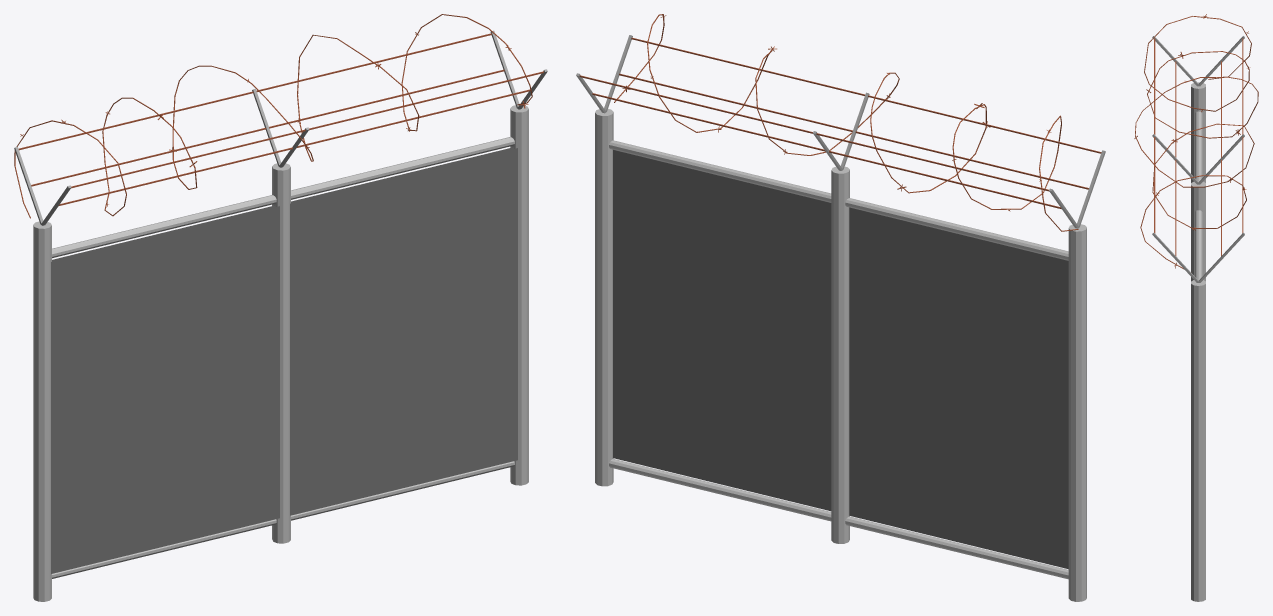
File: BarbedWireFence_middle.fbx
The picture shows the model from 3 angles, left to right: view 1: azimuth 30°, elevation 25°; view 2: azimuth 150°, elevation 25°; view 3: azimuth 270°, elevation 25°; orthographic projection. The views are drawn at different scales.
Parts seen in each view (by area): view 1: barbedwirefence; view 2: barbedwirefence; view 3: barbedwirefence.
Boxes of the visible parts, x1=… form: barbedwirefence: x1=14, y1=14, x2=547, y2=601; barbedwirefence: x1=576, y1=14, x2=1105, y2=601; barbedwirefence: x1=1134, y1=14, x2=1258, y2=601.
Size of the model in its own units: 414 by 383 by 107.
